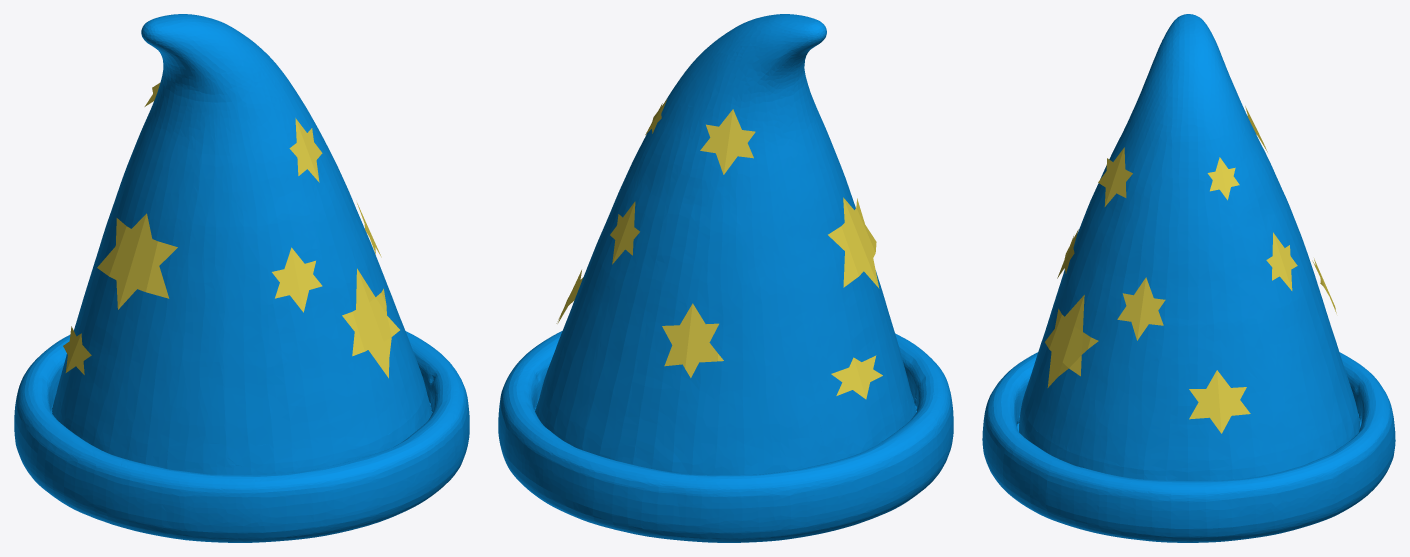
Rendered from wizhattex.glb.
3 renders of one model, left to right at view 1: azimuth 30°, elevation 25°; view 2: azimuth 150°, elevation 25°; view 3: azimuth 270°, elevation 25°, orthographic. The views are drawn at different scales.
Parts seen in each view (by area): view 1: hat, stars; view 2: hat, stars; view 3: hat, stars.
Boxes of the visible parts, x1=… form: hat: x1=14, y1=14, x2=469, y2=542; stars: x1=63, y1=83, x2=399, y2=378; hat: x1=498, y1=14, x2=953, y2=542; stars: x1=556, y1=99, x2=882, y2=399; hat: x1=982, y1=14, x2=1395, y2=542; stars: x1=1045, y1=106, x2=1336, y2=433.
Bounding box in the file's own units: 0.9112 × 0.9996 × 0.9108.
